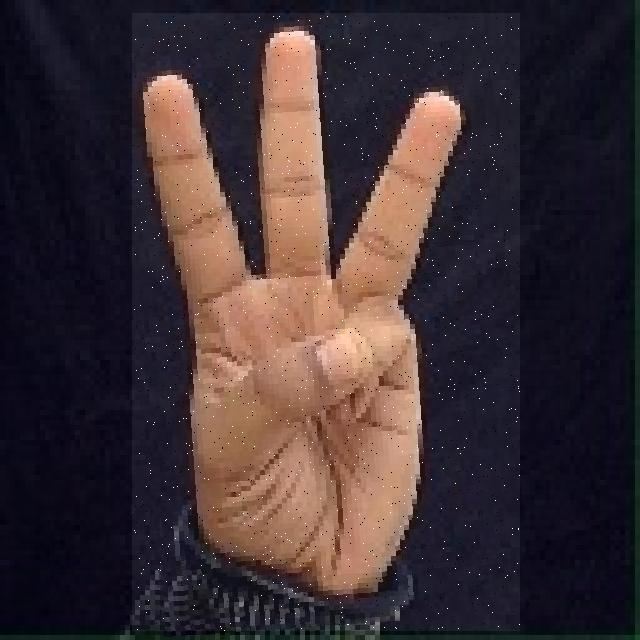Please: (132, 13, 520, 631)
